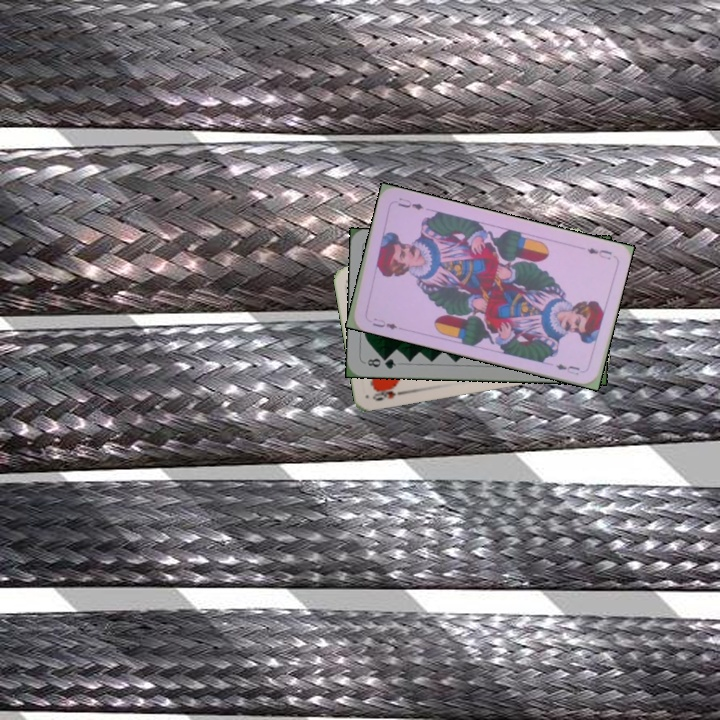EU: (368, 314, 400, 332), (583, 244, 614, 262)
G8: (363, 353, 398, 371)
HO: (368, 384, 408, 403)
